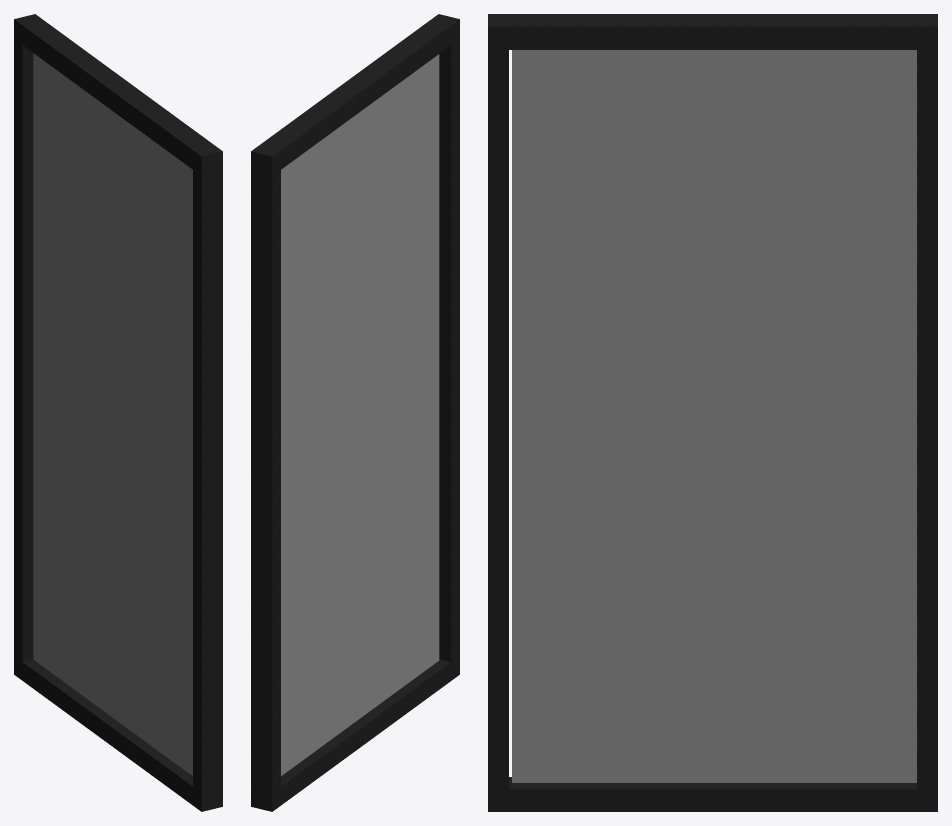
File: window.FBX
3 renders of one model, left to right at view 1: azimuth 30°, elevation 25°; view 2: azimuth 150°, elevation 25°; view 3: azimuth 270°, elevation 25°, orthographic. The views are drawn at different scales.
Parts seen in each view (by area): view 1: glass, window; view 2: glass, window; view 3: glass, window.
Part boxes in pixels (x1,y1,x2,y2): glass: (33, 53, 192, 775); window: (14, 14, 222, 811); glass: (281, 54, 439, 775); window: (251, 14, 459, 811); glass: (512, 50, 916, 782); window: (488, 14, 937, 811).
Size of the model in its own units: 22.13 by 653 by 339.
